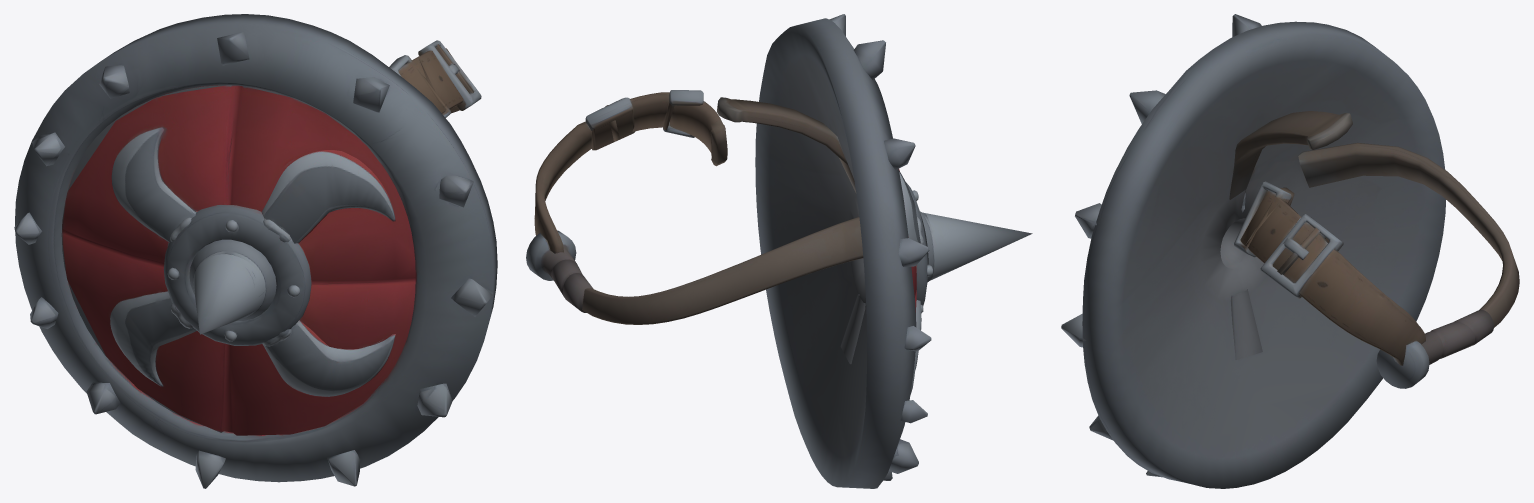
The model's file is shield.glb.
The picture shows the model from 3 angles, left to right: view 1: azimuth 30°, elevation 25°; view 2: azimuth 150°, elevation 25°; view 3: azimuth 270°, elevation 25°; orthographic projection. The views are drawn at different scales.
Visible parts, largest first — view 1: tripo_node_761c3a52-140c-4939-954a-800289148507; view 2: tripo_node_761c3a52-140c-4939-954a-800289148507; view 3: tripo_node_761c3a52-140c-4939-954a-800289148507.
Boxes of the visible parts, <box> form: tripo_node_761c3a52-140c-4939-954a-800289148507: <box>14,14,497,488</box>; tripo_node_761c3a52-140c-4939-954a-800289148507: <box>526,14,1032,488</box>; tripo_node_761c3a52-140c-4939-954a-800289148507: <box>1061,14,1519,488</box>.
Bounding box in the file's own units: 0.9917 × 0.9995 × 0.938.
Materials: 1 (1 with a texture image).
